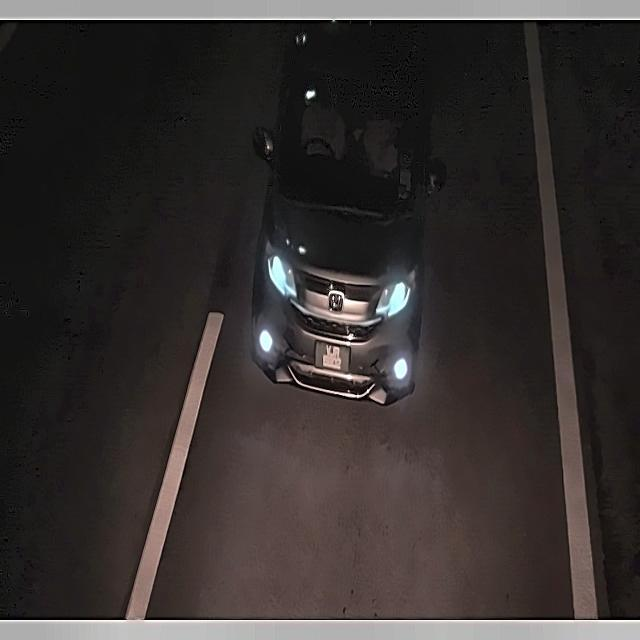car: (312, 329, 355, 381)
